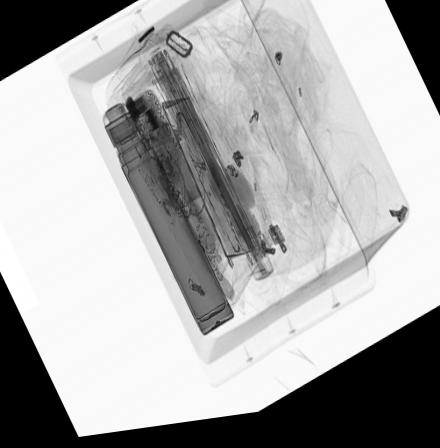Lighter: (186, 228, 225, 293)
